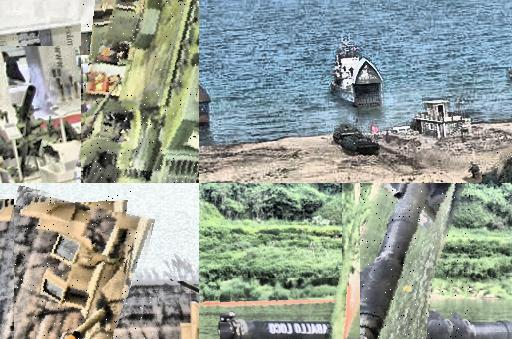tanks: (83, 1, 200, 184), (16, 192, 154, 339), (361, 184, 468, 339), (334, 125, 379, 155), (498, 159, 512, 184)
